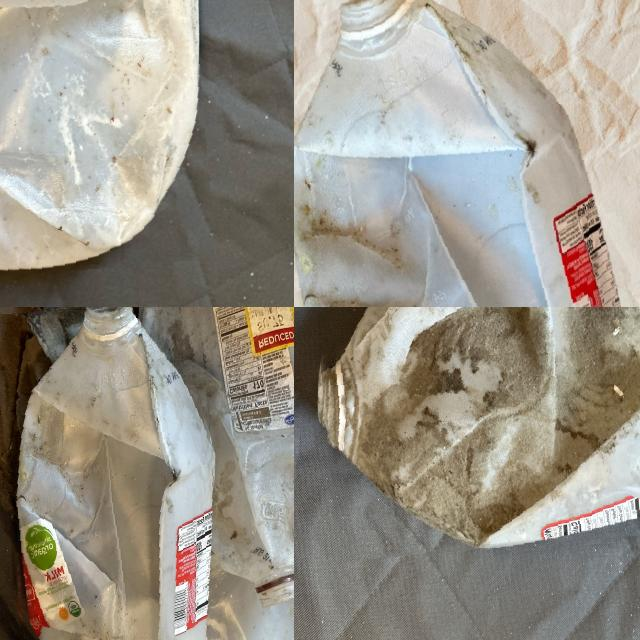milk-jug: (294, 0, 638, 307), (315, 307, 640, 553), (1, 307, 223, 640), (0, 0, 207, 280), (156, 307, 294, 600)
